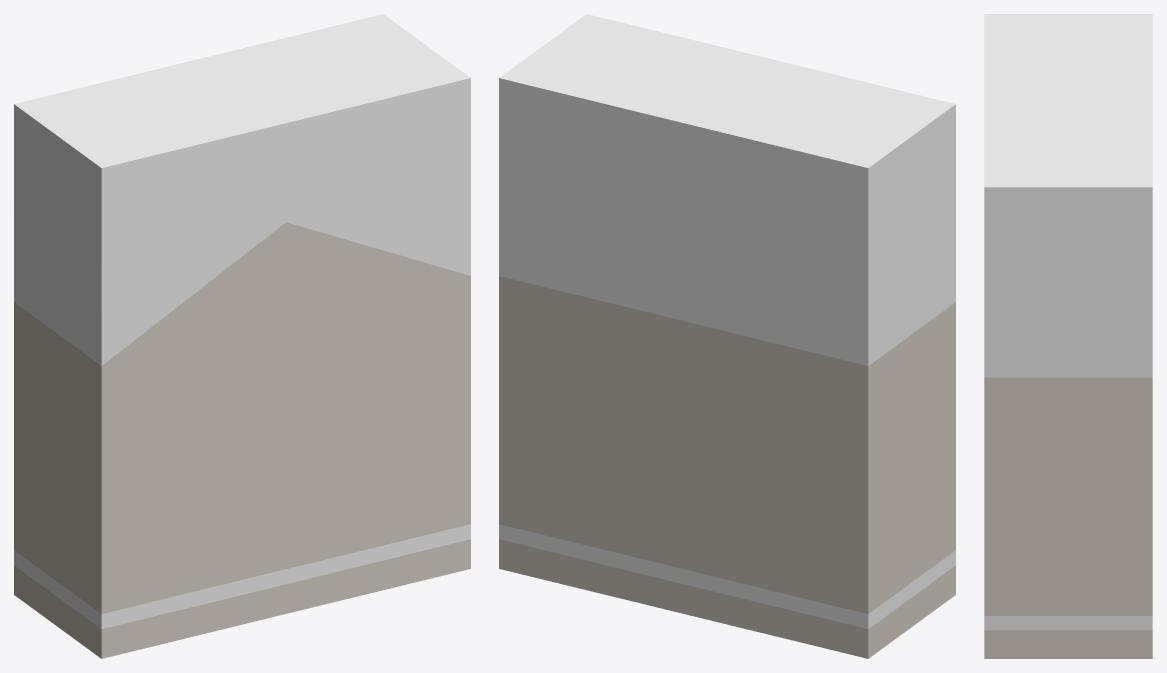
File: pack of cigs.fbx
3 views of the same model, side by side, from view 1: azimuth 30°, elevation 25°; view 2: azimuth 150°, elevation 25°; view 3: azimuth 270°, elevation 25° (orthographic). The views are drawn at different scales.
Visible parts, largest first — view 1: pack of cigs; view 2: pack of cigs; view 3: pack of cigs.
Part boxes in pixels (left/top/right/bottom): pack of cigs: left=14, top=14, right=470, bottom=658; pack of cigs: left=499, top=14, right=955, bottom=658; pack of cigs: left=984, top=14, right=1152, bottom=658.
Size of the model in its own units: 0.1128 by 0.1432 by 0.0463.
